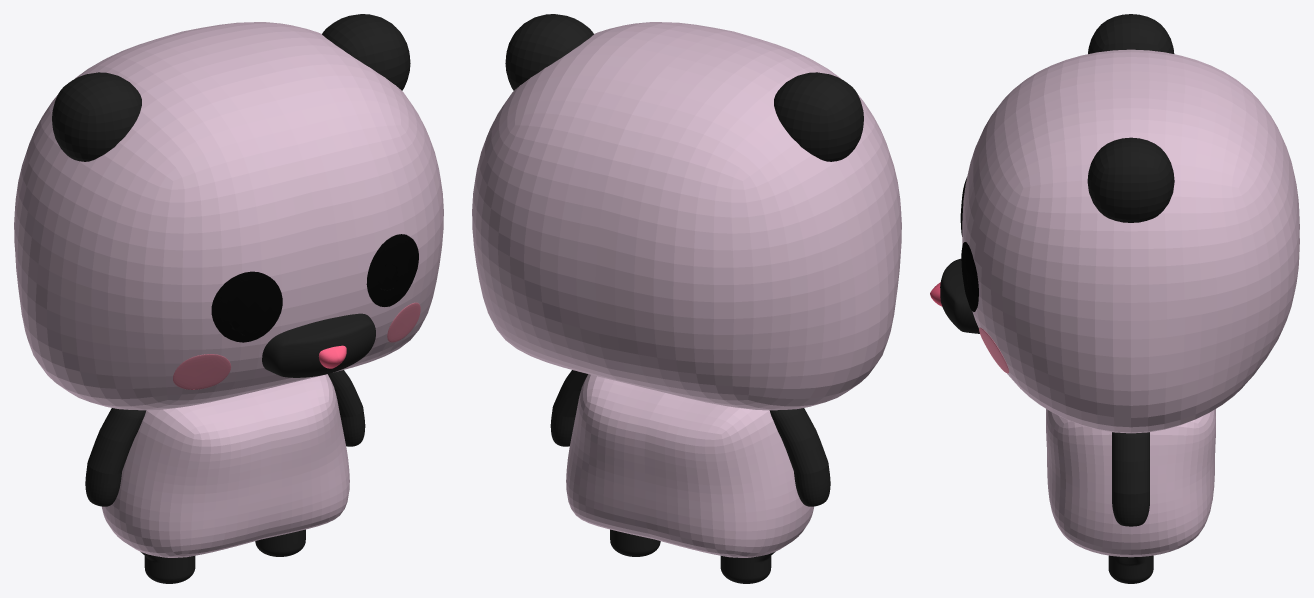
File: 17.05.Panda.glb
3 renders of one model, left to right at view 1: azimuth 30°, elevation 25°; view 2: azimuth 150°, elevation 25°; view 3: azimuth 270°, elevation 25°, orthographic. The views are drawn at different scales.
Visible parts, largest first — view 1: Cube, Cube.001, Plane, Cube.003, Cylinder.001, Cube.004, Cube.002, Plane.001, Cylinder; view 2: Cube, Cube.001, Cube.003, Cylinder.001, Cube.002, Cylinder; view 3: Cube, Cube.001, Cube.002, Cylinder.001, Cube.003, Cube.004, Cylinder, Plane.
Part boxes in pixels (x1,y1,x2,y2): Cube: [14, 22, 443, 410]; Cube.001: [102, 374, 349, 557]; Plane: [211, 234, 418, 342]; Cube.003: [52, 72, 141, 161]; Cylinder.001: [85, 370, 365, 506]; Cube.004: [262, 313, 375, 377]; Cube.002: [322, 14, 410, 90]; Plane.001: [173, 302, 420, 389]; Cylinder: [141, 529, 305, 583]; Cube: [472, 22, 901, 410]; Cube.001: [566, 374, 813, 557]; Cube.003: [774, 72, 863, 161]; Cylinder.001: [550, 370, 830, 506]; Cube.002: [505, 14, 593, 90]; Cylinder: [610, 529, 774, 583]; Cube: [962, 49, 1299, 433]; Cube.001: [1046, 409, 1215, 557]; Cube.002: [1087, 137, 1174, 222]; Cylinder.001: [1112, 432, 1149, 526]; Cube.003: [1088, 14, 1174, 53]; Cube.004: [940, 258, 979, 333]; Cylinder: [1108, 555, 1153, 583]; Plane: [960, 177, 978, 311].
Bounding box in the file's own units: 4.71 × 6.04 × 4.23.
